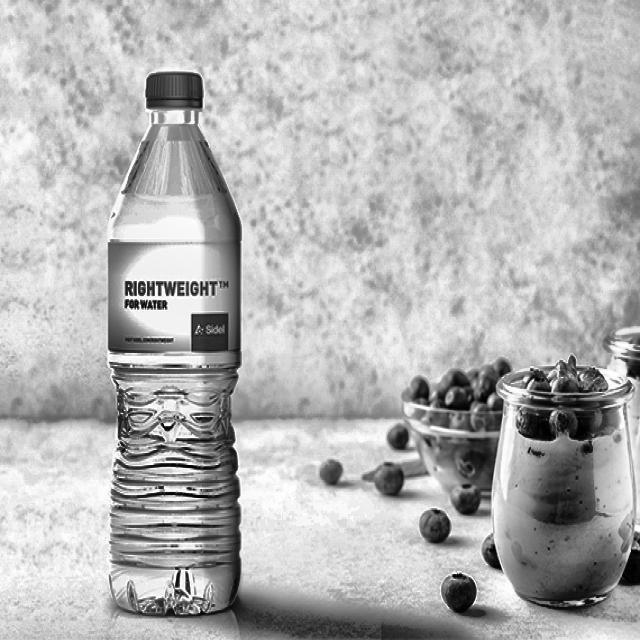waterbottle: (108, 72, 241, 617)
